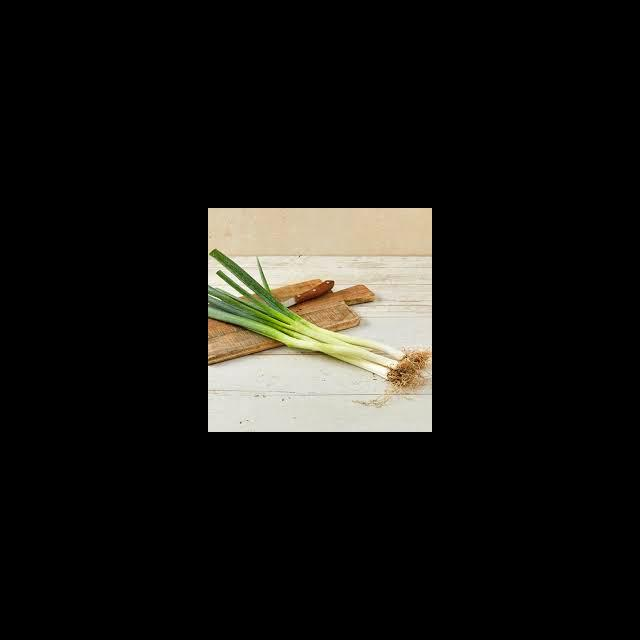green_onion: (208, 249, 431, 393)
